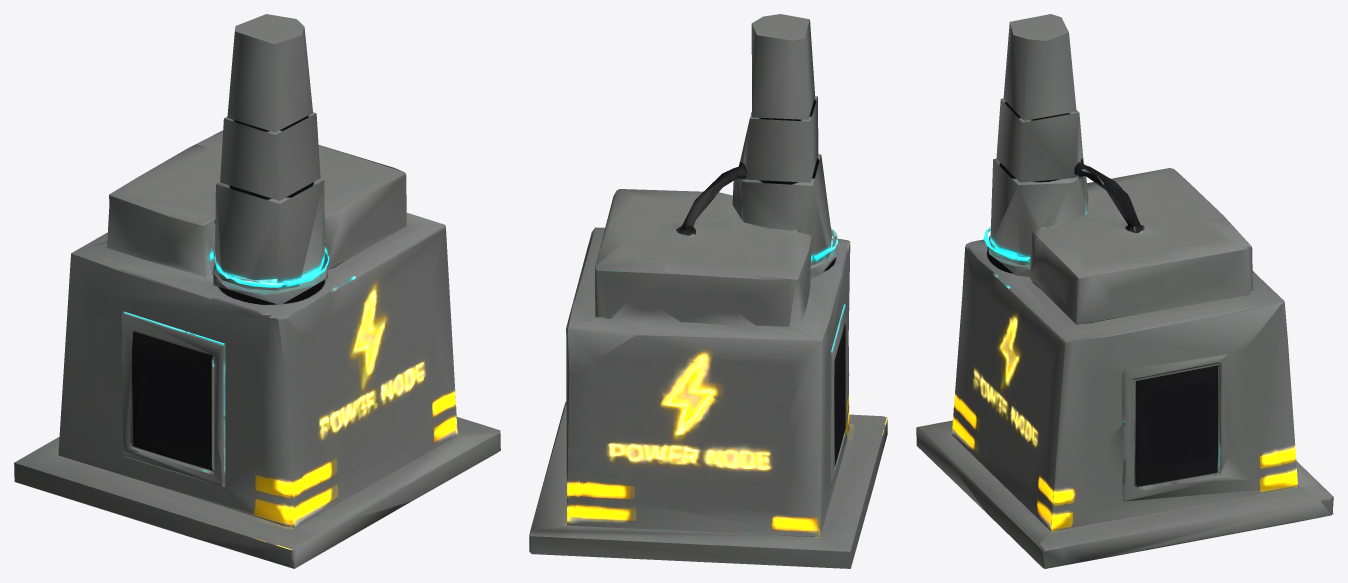
Rendered from power_node.glb.
3 views of the same model, side by side, from view 1: azimuth 30°, elevation 25°; view 2: azimuth 150°, elevation 25°; view 3: azimuth 270°, elevation 25° (orthographic). The views are drawn at different scales.
Parts seen in each view (by area): view 1: body_power_node; view 2: body_power_node; view 3: body_power_node.
Boxes of the visible parts, x1,y1,x2,y2 form: body_power_node: (14, 14, 500, 568); body_power_node: (529, 14, 887, 568); body_power_node: (916, 14, 1333, 568).
Bounding box in the file's own units: 677 × 784 × 676.
Materials: 1 (1 with a texture image).
